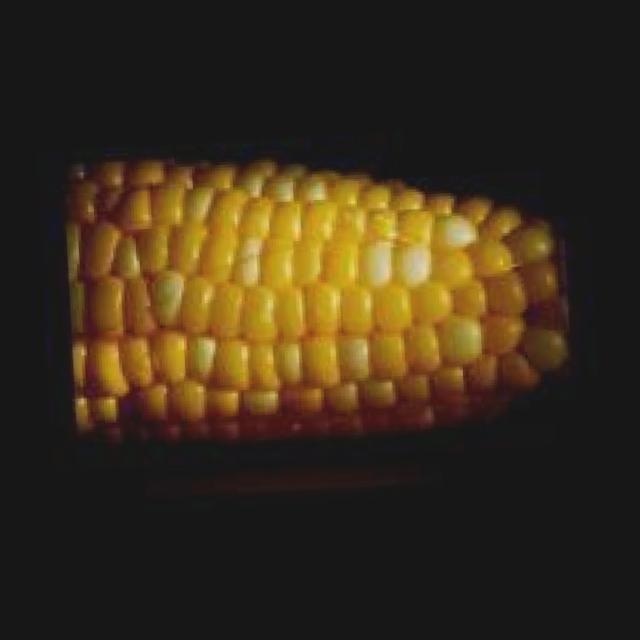corn: (60, 159, 569, 462)
